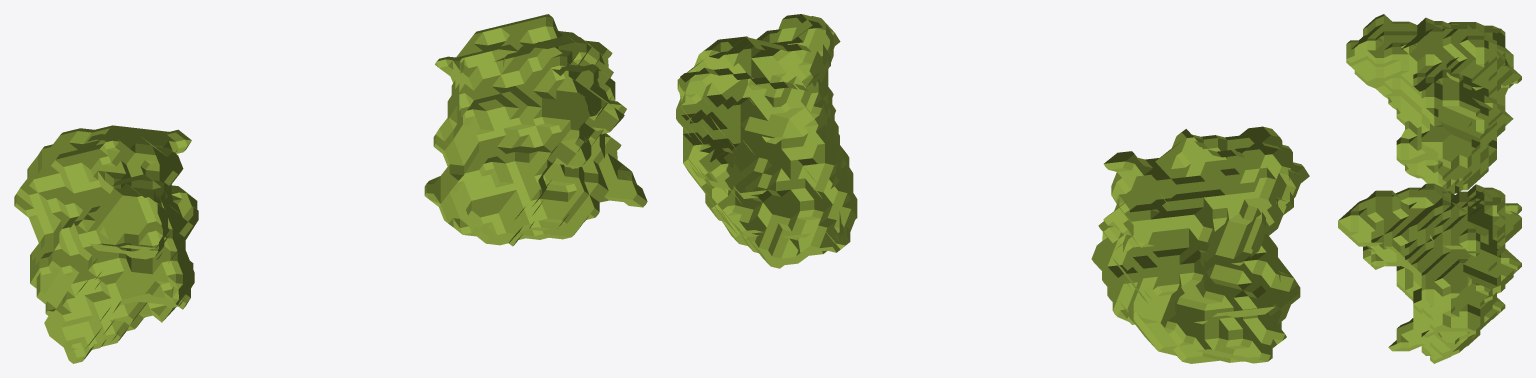
Rendered from region_0091_NDV__nucleus_of_the_descending_trigeminal_root_.glb.
The picture shows the model from 3 angles, left to right: view 1: azimuth 30°, elevation 25°; view 2: azimuth 150°, elevation 25°; view 3: azimuth 270°, elevation 25°; orthographic projection. The views are drawn at different scales.
Parts seen in each view (by area): view 1: world; view 2: world; view 3: world.
Part boxes in pixels (x1,y1,x2,y2): world: (14,14,647,363); world: (676,14,1309,363); world: (1338,14,1521,363).
Bounding box in the file's own units: 0.52 × 0.168 × 0.176.
